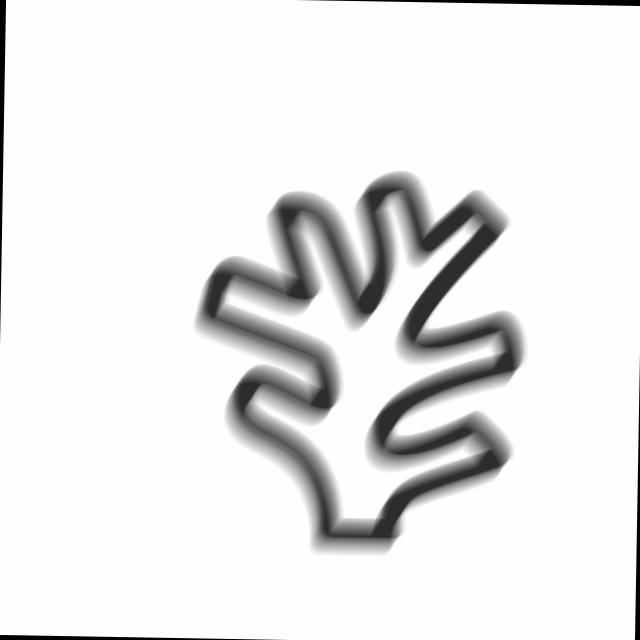coral: (181, 163, 538, 567)
